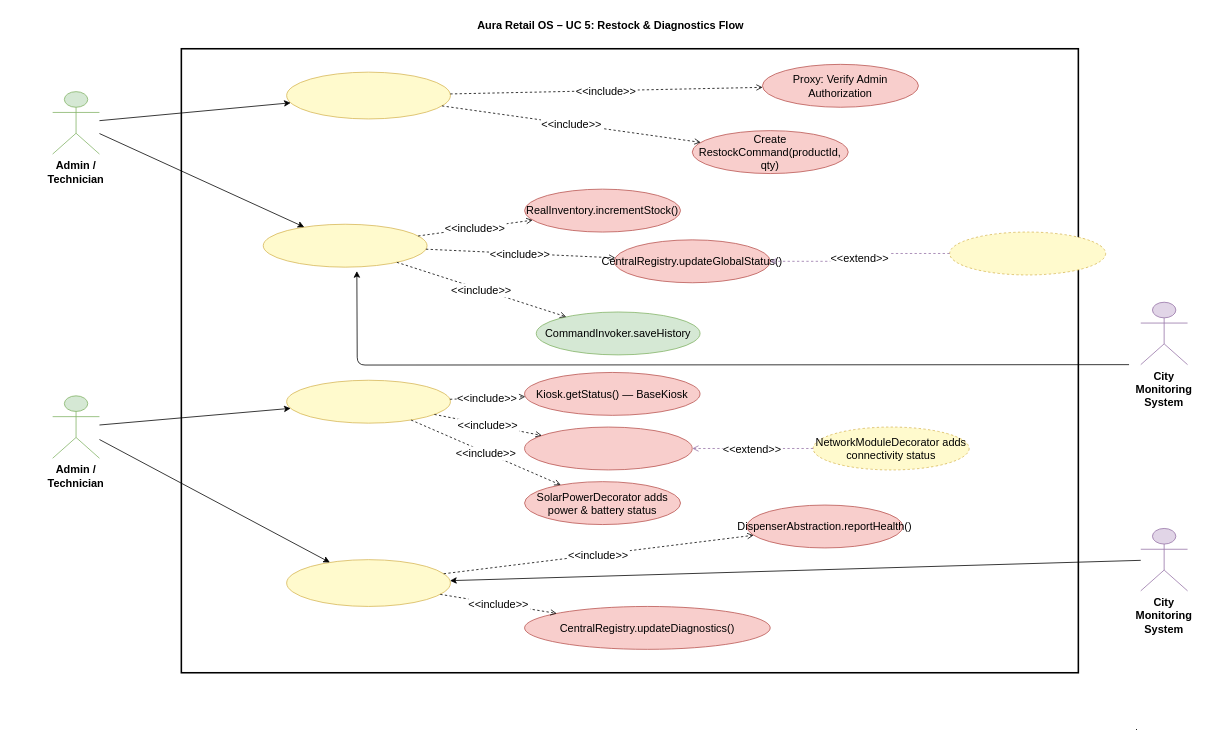
The diagram is 1220 pixels wide and 752 high, and some of its shapes have lost their labels. Each missing label, with the box of its shape:
Execute Restock Command: (262, 223, 427, 267)
RefrigerationDecorator adds temperature & cooling status: (524, 426, 692, 470)
Report Diagnostics to Registry & CityMonitoring: (286, 559, 450, 606)
restockInventory (productId, quantity): (286, 71, 450, 119)
Restore Bundle Availability (Composite chain): (949, 231, 1106, 275)
runDiagnostics(): (286, 379, 450, 423)
